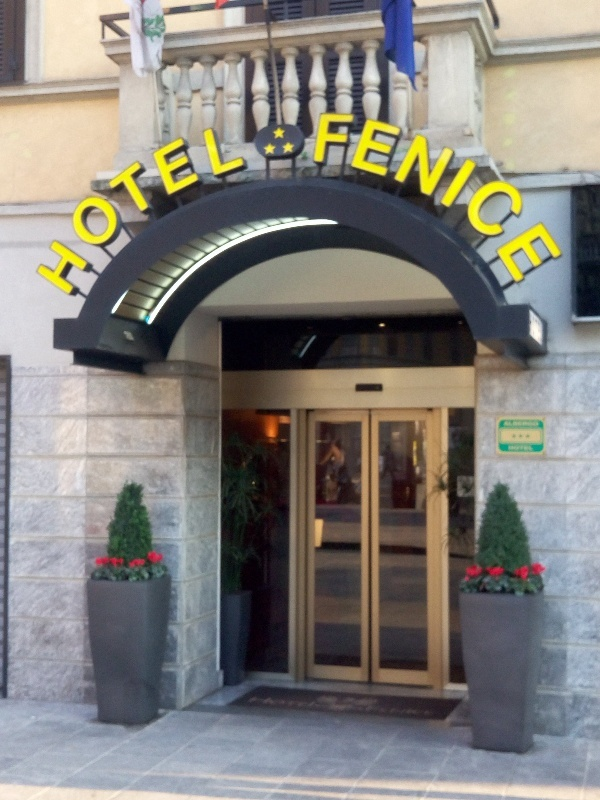text: (561, 30, 577, 294), (353, 30, 368, 294), (369, 30, 384, 294), (385, 30, 400, 294), (401, 30, 416, 294), (417, 30, 432, 294), (433, 30, 448, 294), (449, 30, 464, 294), (465, 30, 480, 294), (481, 30, 496, 294), (497, 30, 512, 294), (513, 30, 528, 294), (529, 30, 544, 294), (545, 30, 560, 294), (339, 30, 352, 294), (17, 107, 32, 308), (33, 107, 48, 308), (49, 107, 64, 308), (65, 107, 80, 308), (81, 107, 96, 308), (97, 107, 112, 308), (113, 107, 128, 308), (129, 107, 144, 308), (145, 107, 160, 308), (161, 107, 176, 308), (177, 107, 192, 308), (193, 107, 208, 308), (209, 107, 224, 308), (225, 107, 240, 308), (241, 107, 251, 308), (9, 107, 16, 308), (513, 420, 528, 428), (513, 445, 528, 452), (529, 420, 539, 428), (504, 420, 512, 428), (509, 445, 512, 452), (529, 445, 532, 452)
